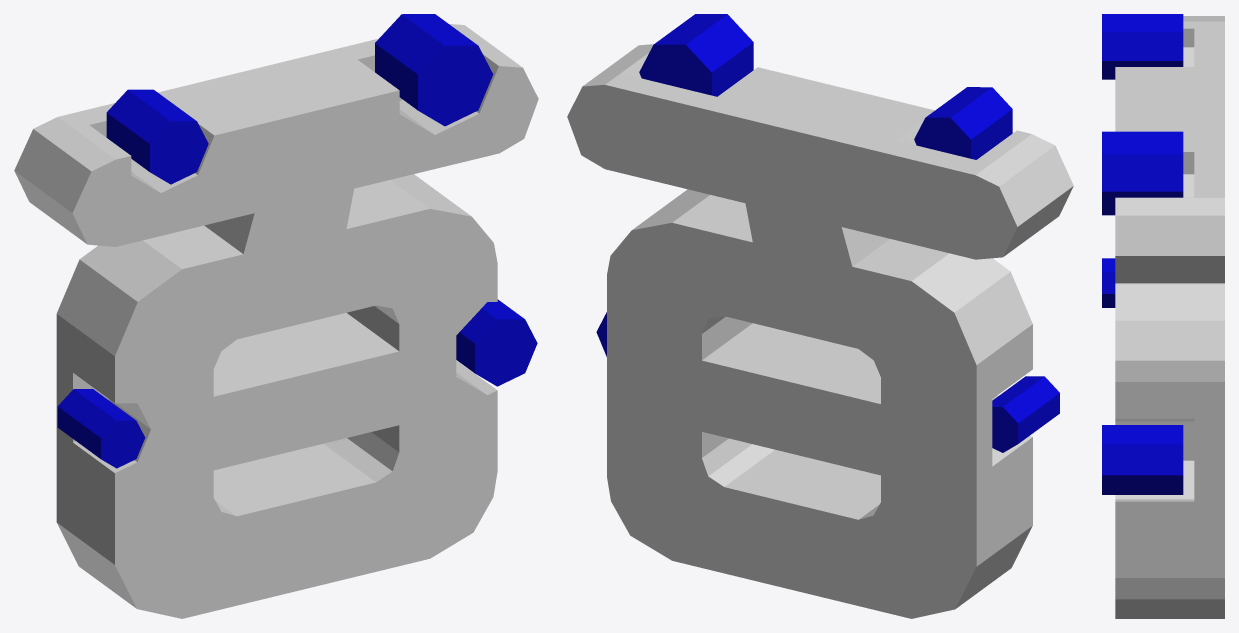
Rendered from Ch_Lite_China_百_01.fbx.
3 views of the same model, side by side, from view 1: azimuth 30°, elevation 25°; view 2: azimuth 150°, elevation 25°; view 3: azimuth 270°, elevation 25° (orthographic). The views are drawn at different scales.
Parts seen in each view (by area): view 1: sphere1; view 2: sphere1; view 3: sphere1.
Part boxes in pixels (left/top/right/bottom): sphere1: left=14, top=14, right=538, bottom=618; sphere1: left=567, top=14, right=1073, bottom=618; sphere1: left=1102, top=14, right=1224, bottom=618.
Bounding box in the file's own units: 0.9238 × 0.9773 × 0.2242.
